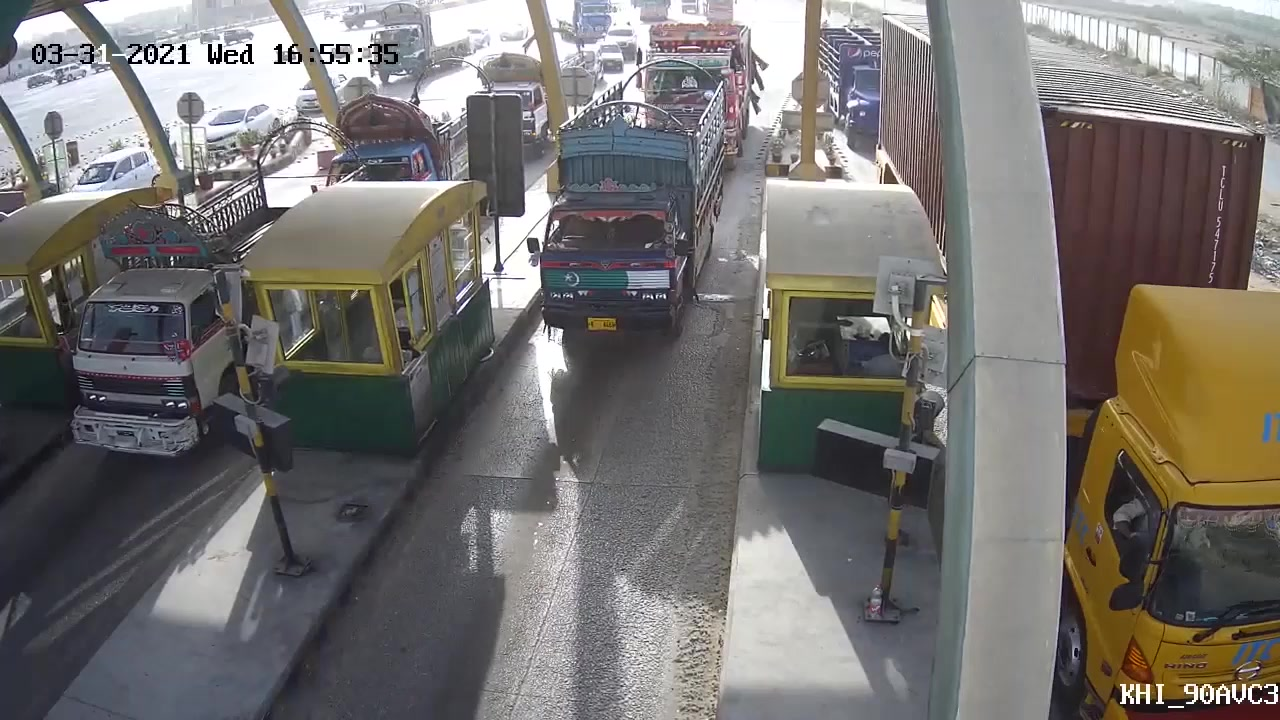F5: (533, 56, 729, 351)
